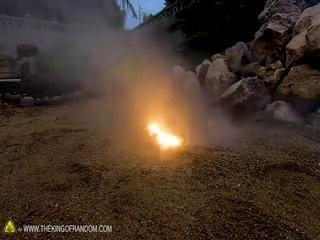Fire: (134, 110, 187, 152)
